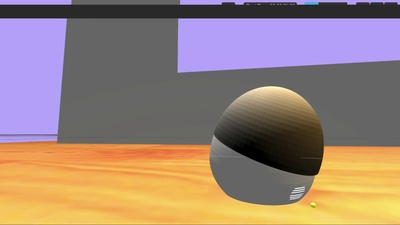mira_robot: (210, 85, 325, 207)
